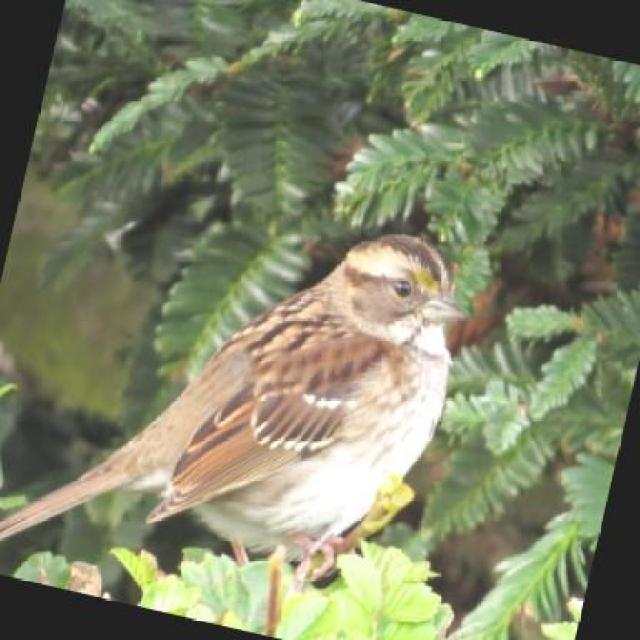Bird: (0, 233, 454, 568)
